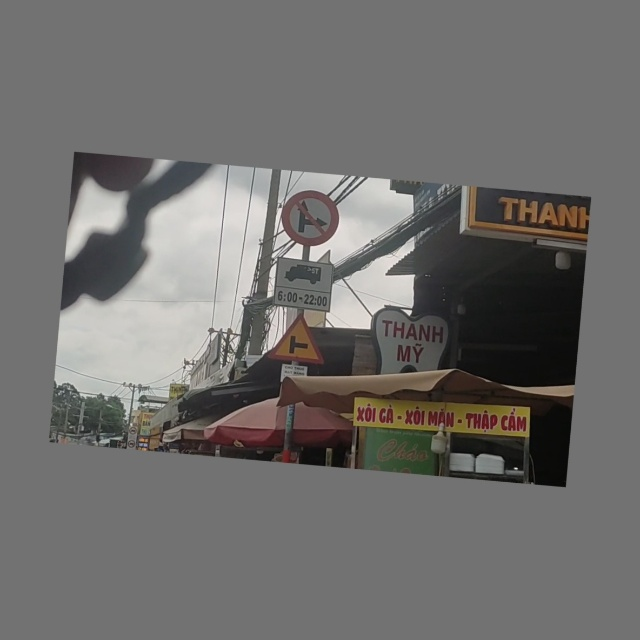P.139: (272, 181, 348, 257)
S.505a*Xe tai: (267, 250, 340, 318)
W.205b: (260, 303, 339, 374)
